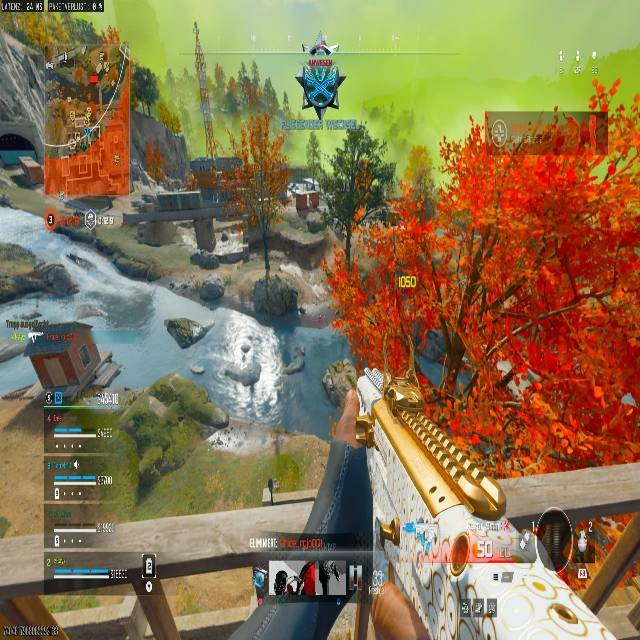head: (528, 511, 631, 588), (284, 178, 322, 216)
player: (293, 43, 346, 119)
